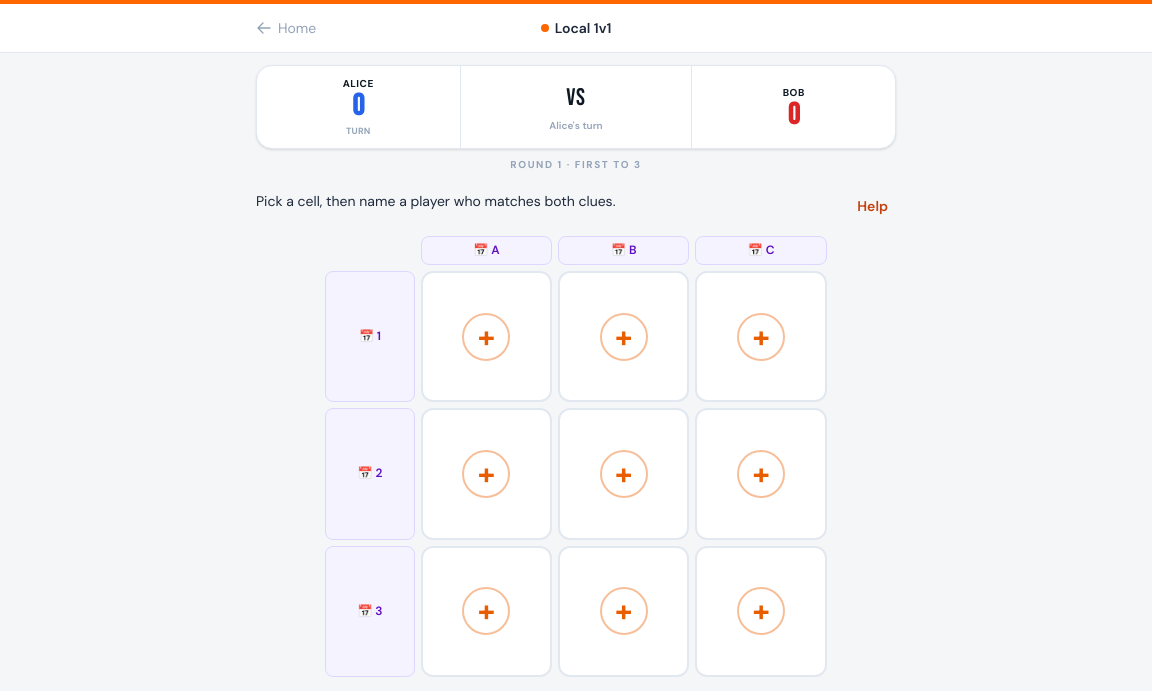
GameBoard keyboard focus restoration with the real PlayerSearch dialog › still restores focus to the opener on Cancel (no move attempted)
Click the button named "1 row and A column. Available. Choose a player." at (486, 337), box x1=421 y1=271 x2=552 y2=402
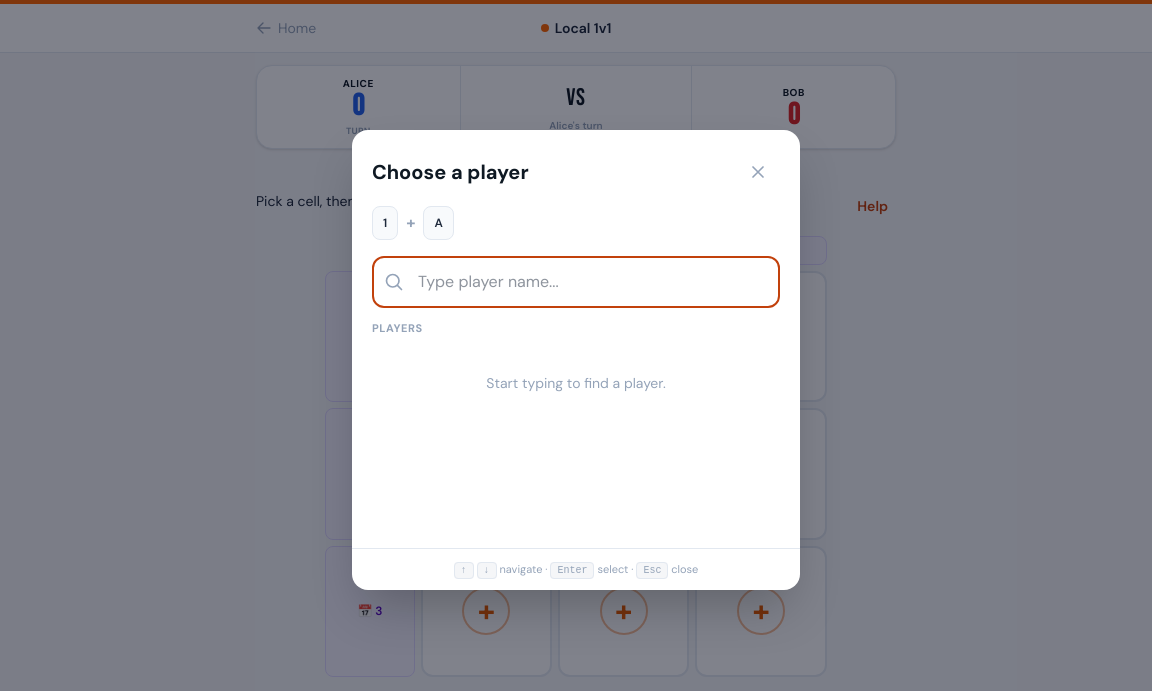
Click the button named "Close" at (758, 172), box x1=736 y1=150 x2=780 y2=194
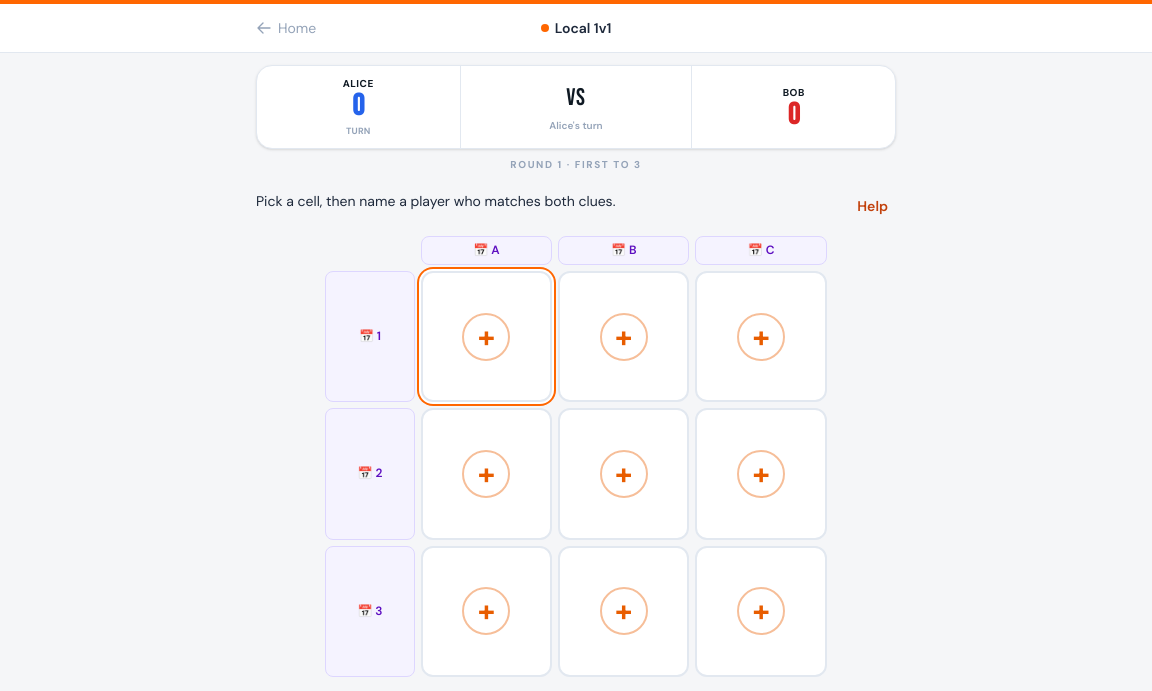
Now the dialog is gone
